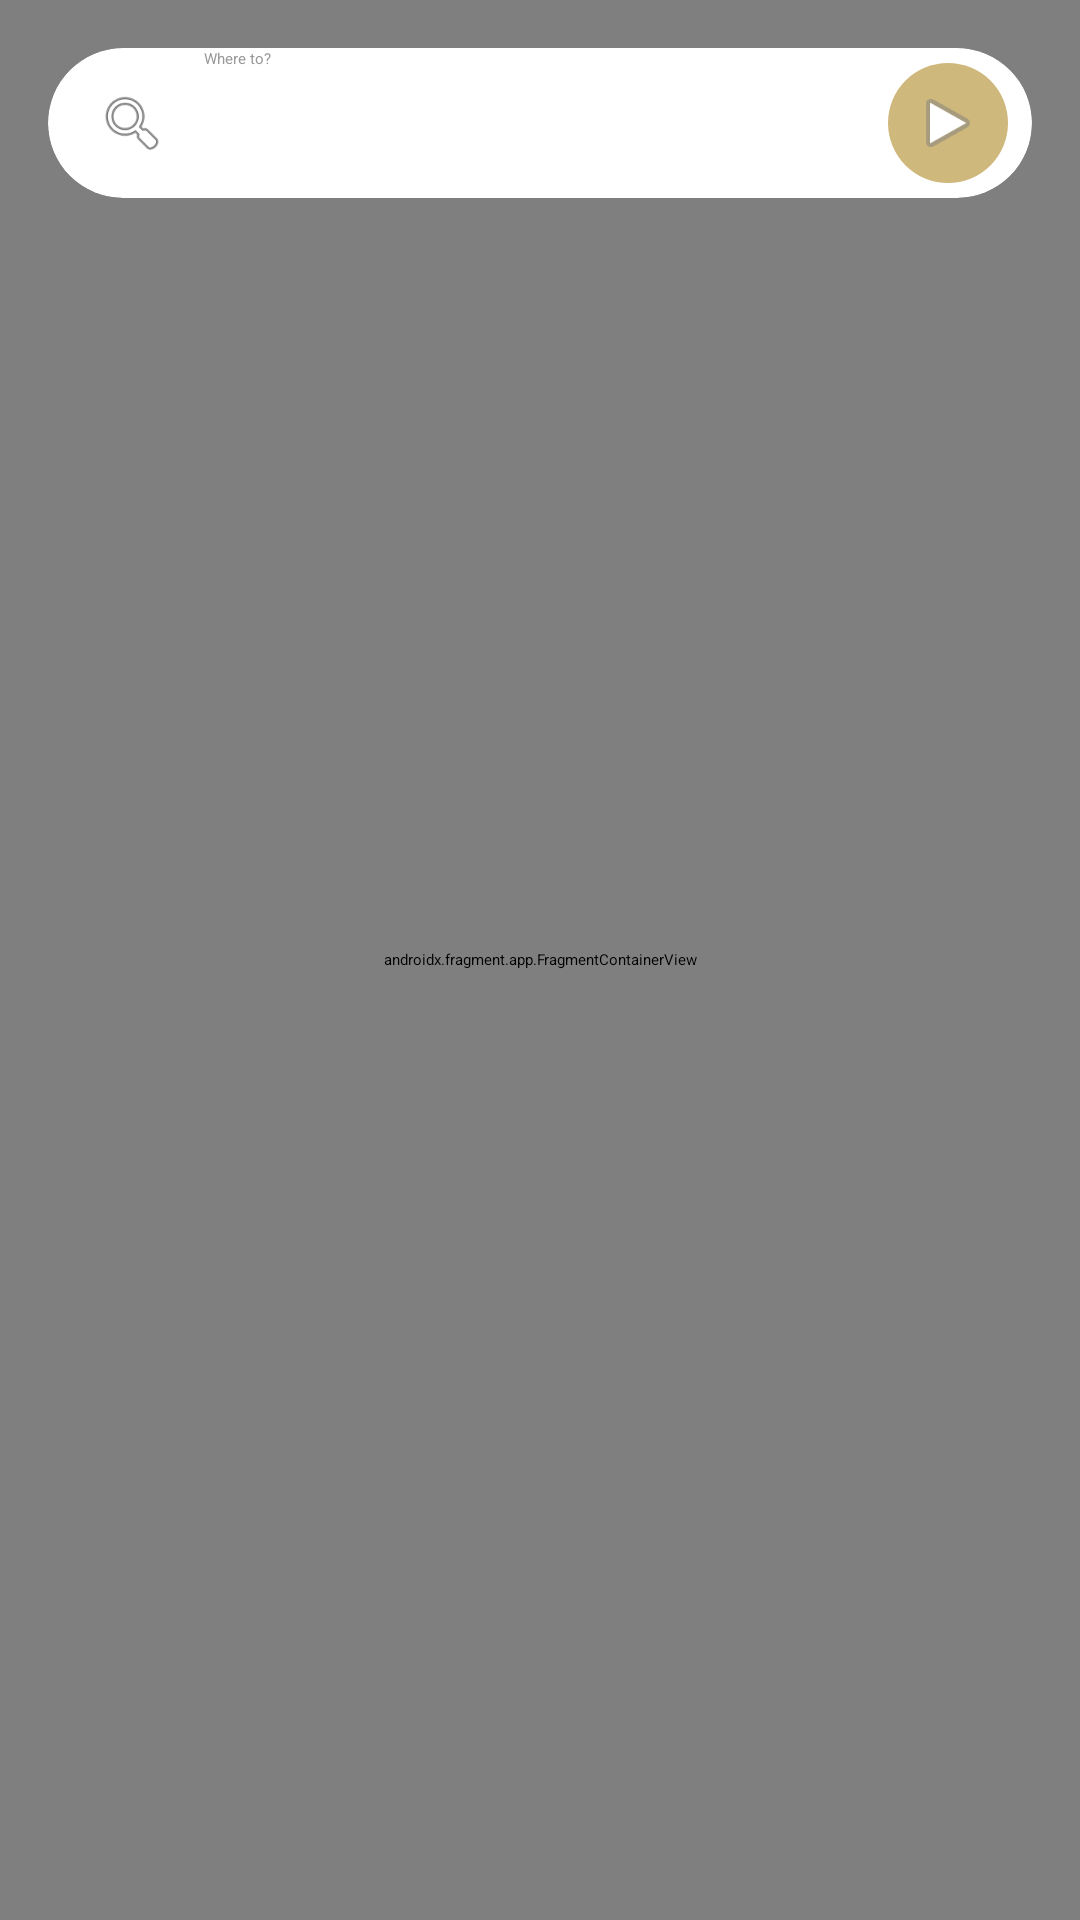

Icon bounding boxes for this 1080 × 1920 phone screenshot, format bbox=[x1, y1, x2, y2]:
Search Icon: bbox=[105, 97, 159, 150]
Start Navigation: bbox=[888, 63, 1008, 183]
